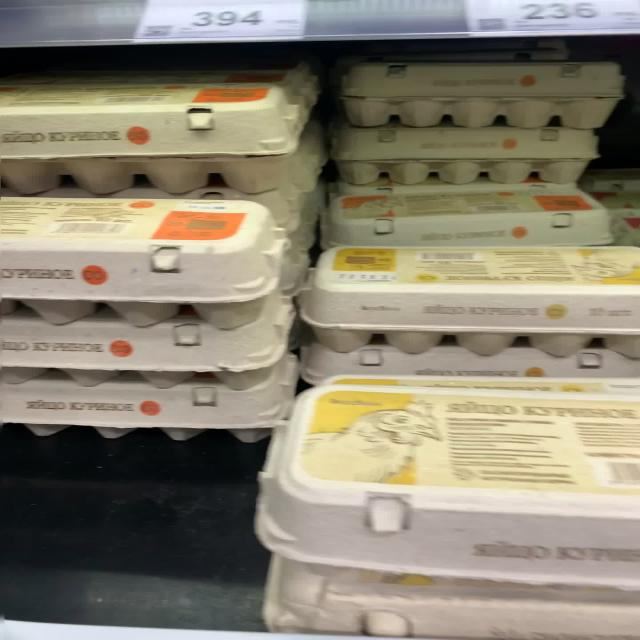egg box: (2, 84, 296, 249), (298, 240, 638, 359), (320, 188, 617, 241)
